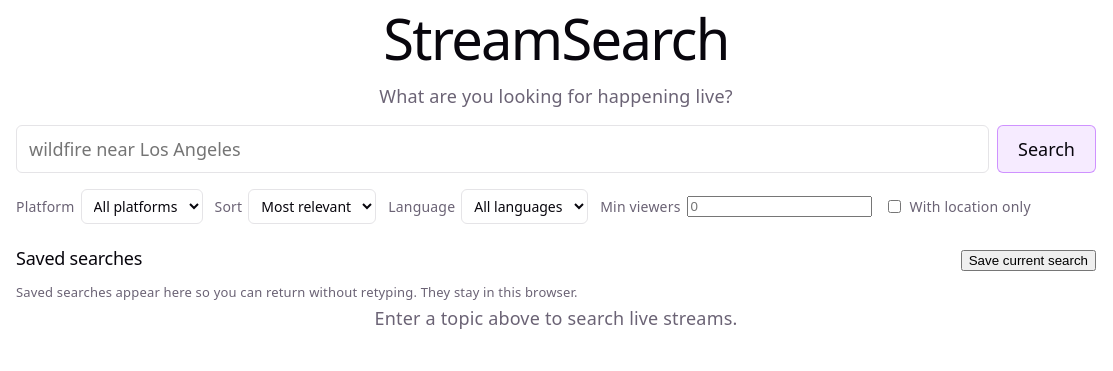
empty results show the empty state
The image size is (1113, 371).
In the search field: (502, 149) [16,125,989,173], type "nothing"
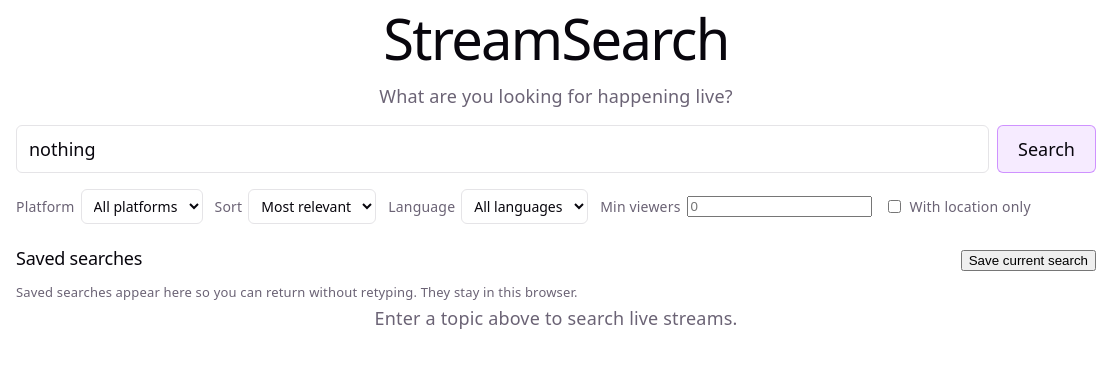
Submit the form, box [16,125,1096,173]
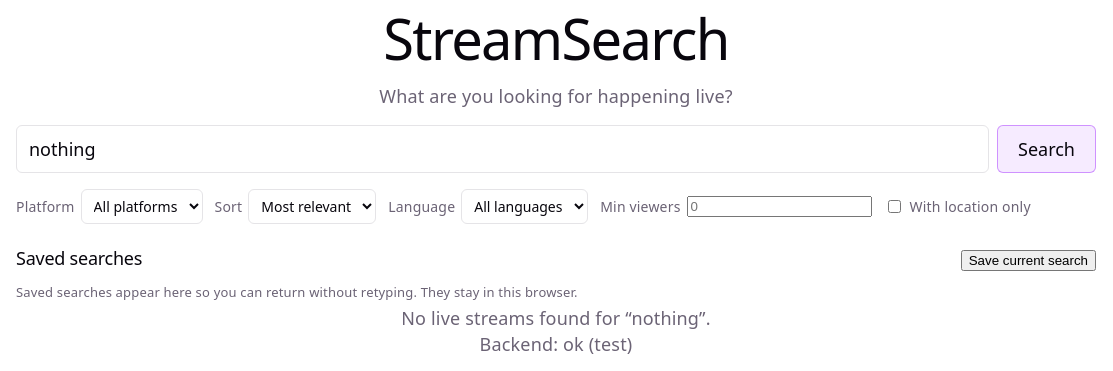
Expected: the text with test id "search-empty" shows "No live streams found", [401,306,631,330]
